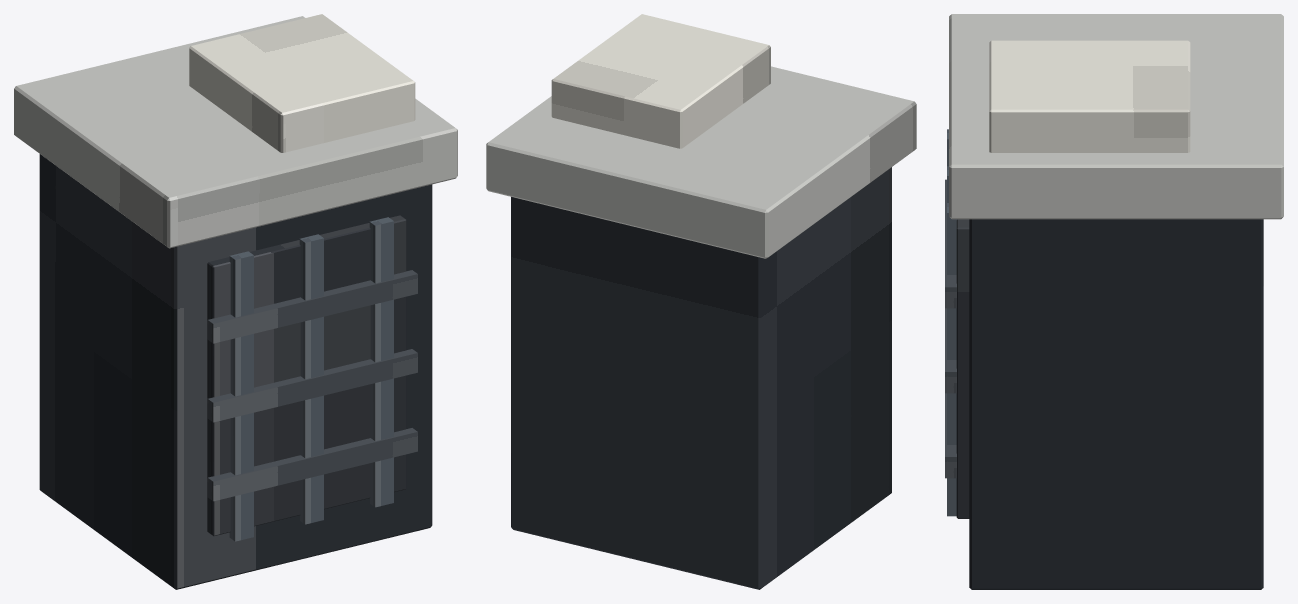
File: laundry_hamper_charcoal.glb
3 views of the same model, side by side, from view 1: azimuth 30°, elevation 25°; view 2: azimuth 150°, elevation 25°; view 3: azimuth 270°, elevation 25° (orthographic). The views are drawn at different scales.
Parts seen in each view (by area): view 1: HamperBody, HamperRim, HamperInset, FoldedCloth, HamperWeaveV_-0.13, HamperWeaveV_0.13, HamperWeaveV_0.0, HamperWeaveH_0.48, HamperWeaveH_0.34, HamperWeaveH_0.2; view 2: HamperBody, HamperRim, FoldedCloth; view 3: HamperBody, HamperRim, FoldedCloth, HamperInset, HamperWeaveV_0.13, HamperWeaveH_0.48, HamperWeaveH_0.2, HamperWeaveH_0.34.
Boxes of the visible parts, left/top/right/bottom form: HamperBody: left=39, top=154, right=432, bottom=589; HamperRim: left=14, top=16, right=457, bottom=248; HamperInset: left=207, top=215, right=406, bottom=536; FoldedCloth: left=189, top=14, right=415, bottom=152; HamperWeaveV_-0.13: left=229, top=251, right=253, bottom=541; HamperWeaveV_0.13: left=369, top=217, right=393, bottom=507; HamperWeaveV_0.0: left=299, top=234, right=323, bottom=524; HamperWeaveH_0.48: left=207, top=270, right=417, bottom=343; HamperWeaveH_0.34: left=207, top=349, right=417, bottom=422; HamperWeaveH_0.2: left=207, top=428, right=417, bottom=501; HamperBody: left=511, top=167, right=891, bottom=589; HamperRim: left=486, top=66, right=916, bottom=258; FoldedCloth: left=551, top=14, right=770, bottom=148; HamperBody: left=969, top=219, right=1263, bottom=589; HamperRim: left=949, top=14, right=1283, bottom=219; FoldedCloth: left=989, top=40, right=1190, bottom=152; HamperInset: left=956, top=219, right=969, bottom=518; HamperWeaveV_0.13: left=947, top=203, right=957, bottom=516; HamperWeaveH_0.48: left=945, top=179, right=956, bottom=308; HamperWeaveH_0.2: left=945, top=393, right=956, bottom=478; HamperWeaveH_0.34: left=945, top=308, right=956, bottom=393.
Bounding box in the file's own units: 0.54 × 0.785 × 0.506.
Materials: 1 (1 with a texture image).
